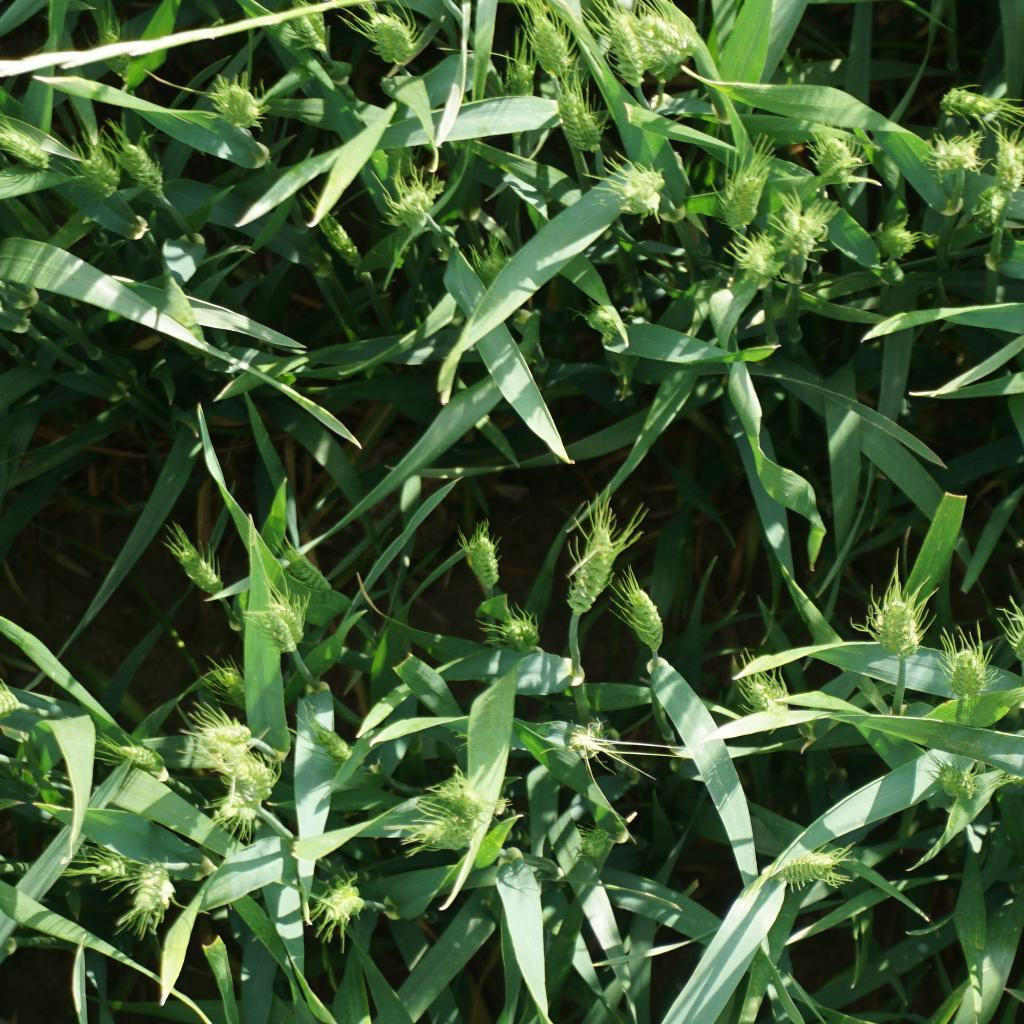0-0: (565, 521, 628, 616), (630, 11, 694, 74), (773, 201, 832, 266), (617, 572, 665, 649), (719, 165, 773, 232), (524, 5, 570, 80), (126, 865, 181, 927), (605, 5, 644, 92), (412, 802, 474, 856), (172, 541, 229, 599), (607, 163, 665, 220), (555, 90, 609, 151), (218, 747, 272, 806), (875, 590, 923, 655), (359, 11, 417, 64), (772, 846, 851, 884), (926, 131, 983, 183), (933, 84, 1014, 120), (736, 662, 788, 717), (623, 18, 688, 60), (194, 712, 257, 755), (116, 140, 165, 194), (940, 649, 990, 698), (316, 882, 368, 929), (735, 229, 784, 278), (0, 121, 53, 166), (276, 542, 329, 587), (77, 146, 126, 194), (457, 530, 500, 583), (432, 783, 500, 816), (94, 15, 130, 77), (310, 194, 349, 250), (814, 133, 860, 180), (209, 83, 263, 123), (211, 783, 263, 824), (263, 601, 303, 652), (284, 3, 328, 49), (968, 184, 1010, 232), (86, 849, 147, 882), (991, 138, 1024, 199), (103, 739, 165, 770), (215, 663, 257, 706), (309, 722, 353, 762), (466, 254, 510, 294), (585, 299, 631, 336), (501, 56, 536, 104), (936, 764, 981, 800), (395, 187, 436, 223), (567, 723, 606, 758), (877, 224, 915, 259), (501, 613, 541, 645), (585, 824, 610, 861)
